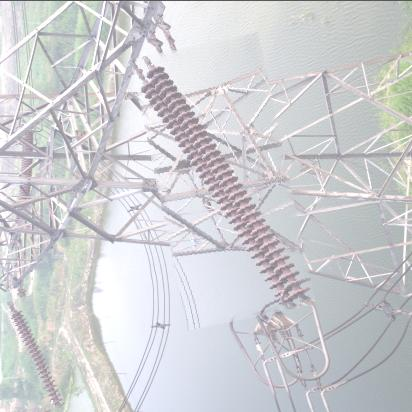insulator: (145, 38, 303, 326), (9, 296, 58, 412)
